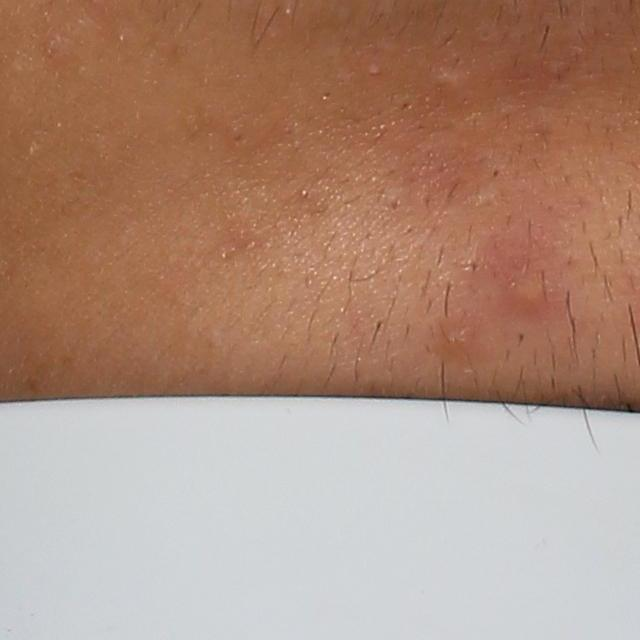comedo: (489, 165, 502, 179)
hypertrophic_scar: (433, 65, 485, 95)
pustule: (486, 261, 557, 318)
